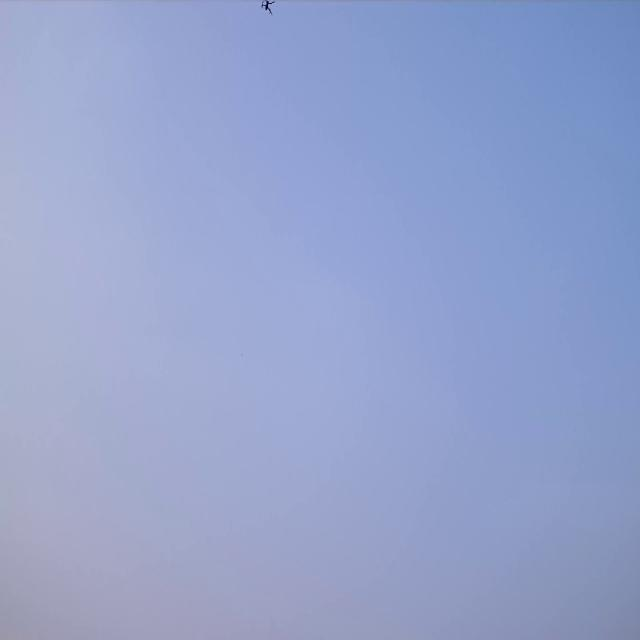UAV: (261, 0, 275, 15)
